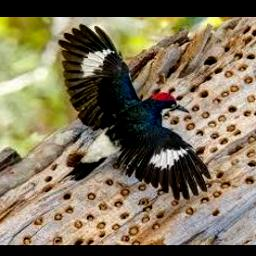Woodpecker: (59, 24, 212, 200)
